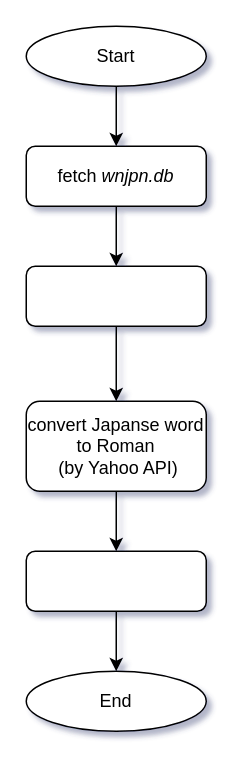
The diagram is 242 pixels wide and 767 high, and some of its shapes have lost their labels. The shapes that lost their labels are listed below. From the top down, each one's centre as x and y in pixels, then its label:
At [115,295]: "extract Japanse word from DB".
At [115,580]: "generate new DB".
